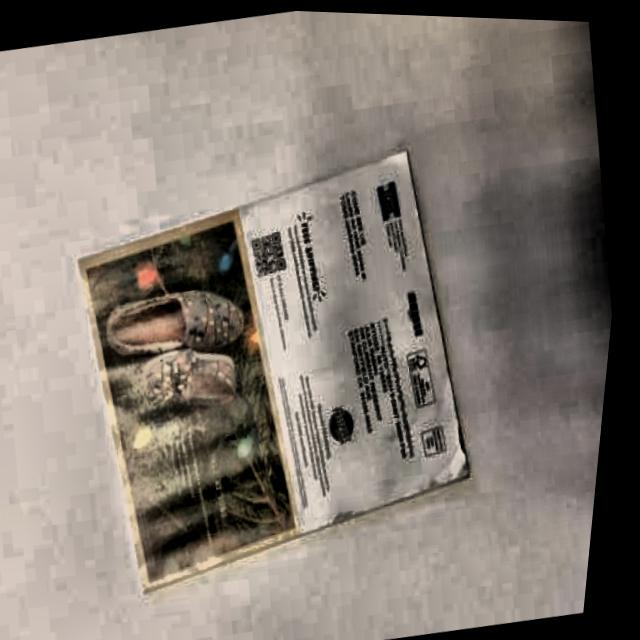Paper: (43, 130, 531, 617)
